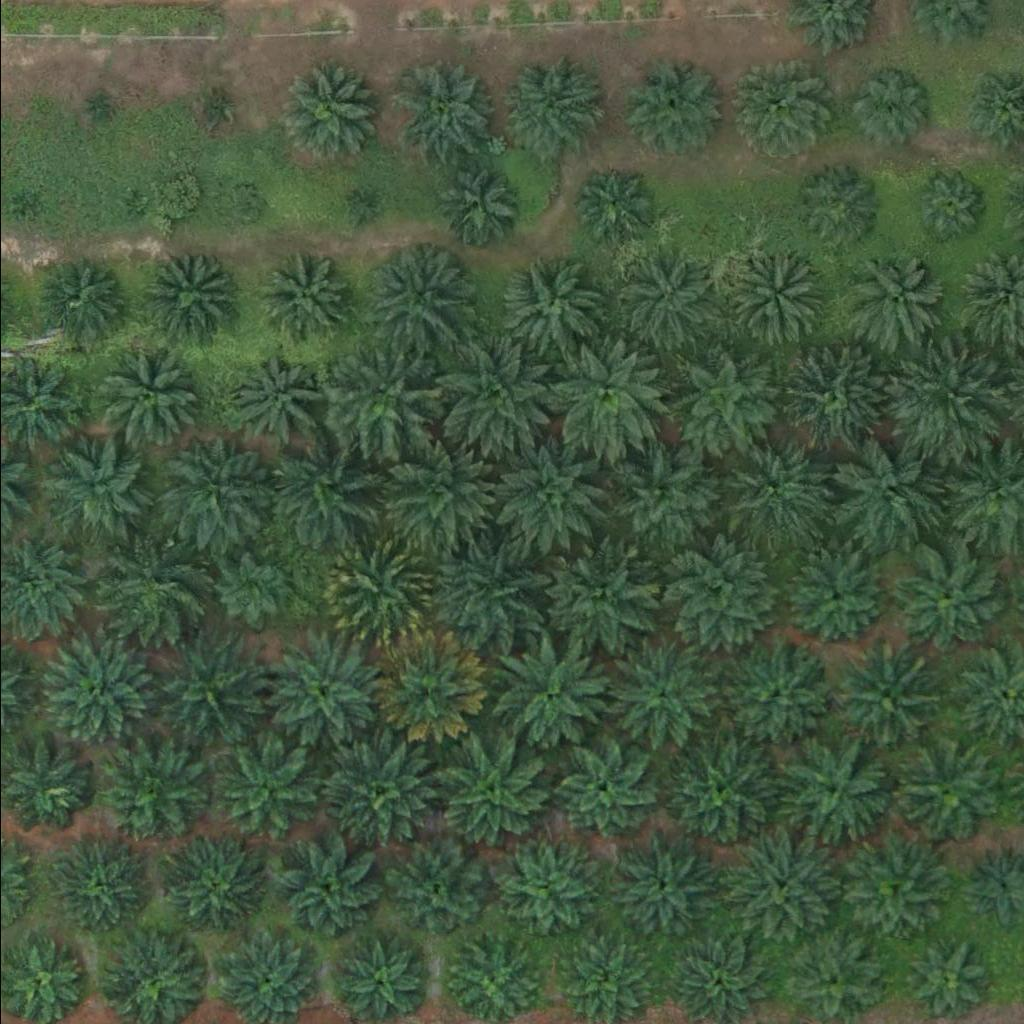Kelapa_Sawit: (30, 633, 144, 746), (361, 240, 475, 353), (891, 344, 1004, 457), (774, 345, 887, 458), (829, 438, 942, 551), (718, 432, 831, 545), (603, 440, 716, 553), (663, 540, 776, 653), (549, 543, 662, 656), (431, 542, 544, 655), (776, 733, 889, 846), (724, 831, 837, 944), (604, 834, 717, 947), (203, 735, 316, 848), (370, 631, 483, 744), (321, 533, 434, 646), (269, 633, 382, 746), (151, 630, 264, 743), (433, 340, 547, 452), (263, 434, 377, 546), (160, 438, 274, 550), (327, 343, 441, 455), (665, 340, 778, 452), (544, 339, 657, 451), (492, 442, 605, 554), (889, 545, 1002, 657), (823, 647, 936, 759), (717, 640, 830, 752), (598, 640, 711, 752), (492, 637, 605, 749), (658, 740, 771, 852), (434, 741, 547, 853), (321, 734, 434, 846), (377, 431, 490, 543), (502, 53, 603, 153), (841, 251, 942, 351), (723, 246, 824, 346), (784, 551, 885, 651), (550, 741, 651, 841), (384, 840, 485, 940), (275, 838, 376, 938), (159, 836, 260, 936), (49, 838, 150, 938), (105, 746, 206, 846), (44, 437, 145, 537), (95, 346, 196, 446), (391, 61, 492, 161), (283, 59, 384, 159), (729, 63, 829, 163), (622, 58, 722, 158), (610, 256, 710, 356), (497, 258, 597, 358), (901, 743, 1001, 843), (841, 841, 941, 941), (101, 542, 201, 642), (35, 255, 123, 343), (845, 62, 933, 149), (790, 164, 878, 251), (499, 846, 587, 933), (230, 356, 318, 443), (263, 256, 351, 343), (141, 249, 229, 336), (434, 162, 522, 249), (574, 169, 650, 244), (910, 945, 986, 1020), (214, 551, 290, 626), (911, 167, 986, 242), (221, 187, 259, 225), (349, 200, 374, 225), (119, 196, 144, 221), (3, 190, 28, 215), (199, 96, 224, 121), (86, 96, 111, 121)
